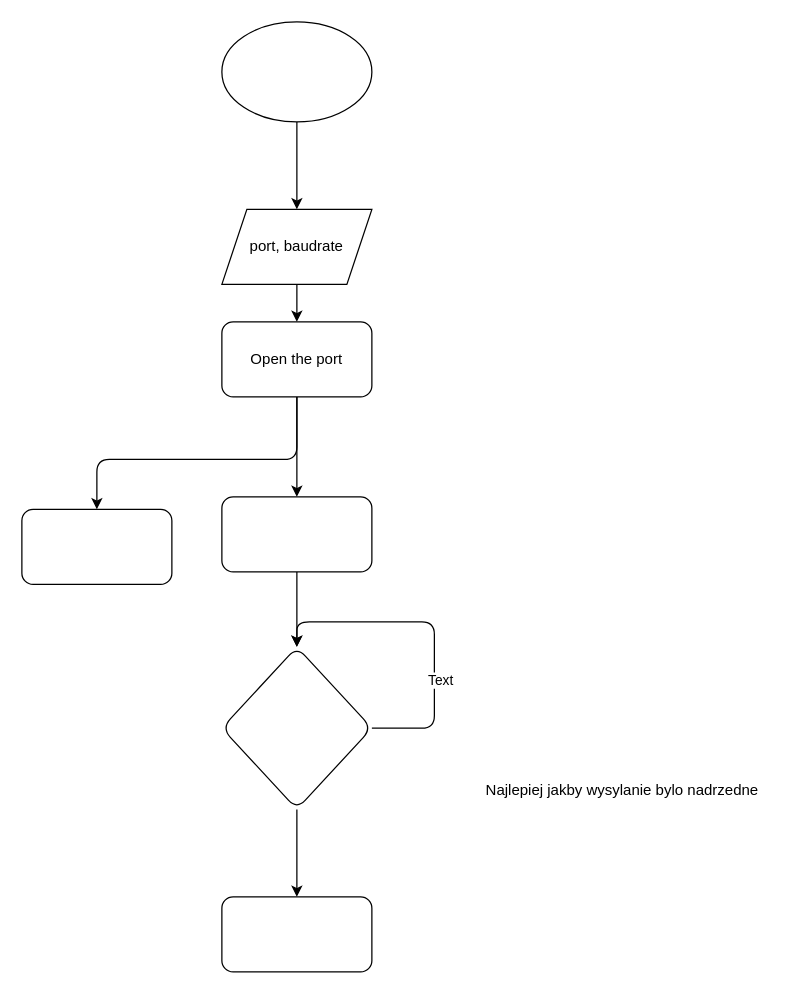
Image size: 794x994. Some labels were removed from this diagram. Each missing label, with the centre of its shape:
Data in Buff?: point (296, 727)
START: point (296, 71)
